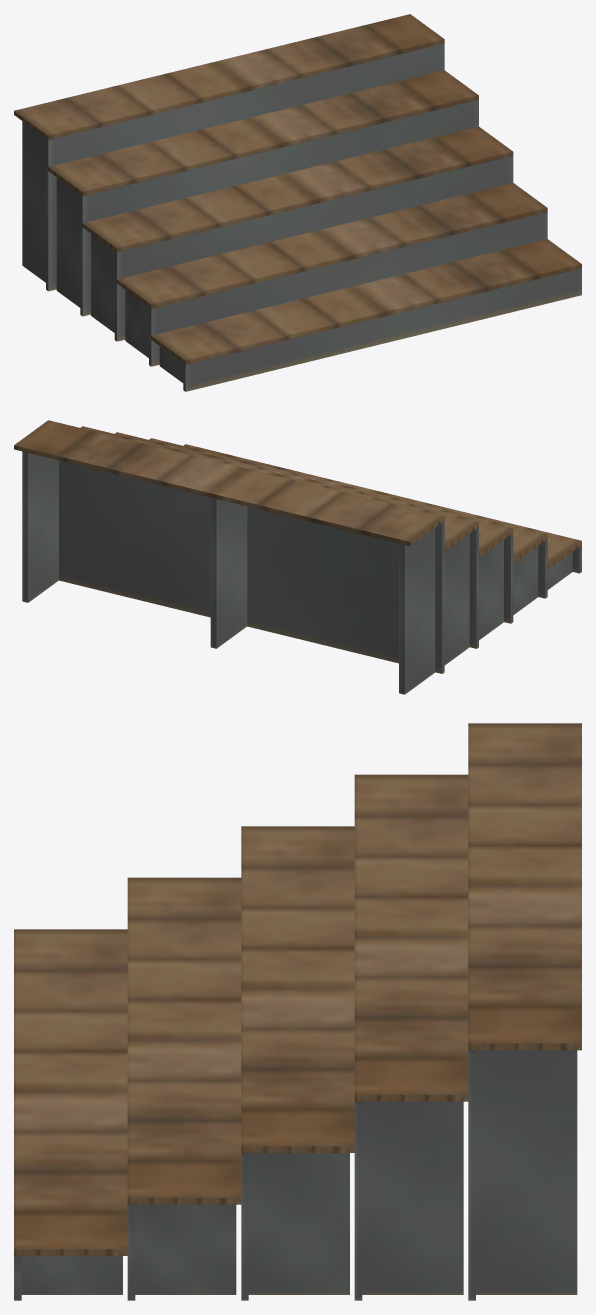
The model's file is bleachers.obj.
The picture shows the model from 3 angles, top to bottom: view 1: azimuth 30°, elevation 25°; view 2: azimuth 150°, elevation 25°; view 3: azimuth 270°, elevation 25°; orthographic projection. The views are drawn at different scales.
Parts seen in each view (by area): view 1: bleachers_5, bleachers_4, bleachers_3, bleachers_2, bleachers; view 2: bleachers_5, bleachers_4, bleachers_3, bleachers_2, bleachers; view 3: bleachers_5, bleachers_4, bleachers_3, bleachers_2, bleachers.
Boxes of the visible parts, left/top/right/bottom form: bleachers_5: left=14, top=14, right=444, bottom=291; bleachers_4: left=48, top=70, right=478, bottom=316; bleachers_3: left=82, top=126, right=513, bottom=341; bleachers_2: left=117, top=183, right=547, bottom=366; bleachers: left=151, top=239, right=581, bottom=391; bleachers_5: left=14, top=420, right=444, bottom=694; bleachers_4: left=80, top=426, right=478, bottom=665; bleachers_3: left=115, top=432, right=513, bottom=640; bleachers_2: left=149, top=438, right=547, bottom=614; bleachers: left=183, top=444, right=581, bottom=589; bleachers_5: left=468, top=723, right=581, bottom=1300; bleachers_4: left=354, top=774, right=468, bottom=1300; bleachers_3: left=241, top=826, right=354, bottom=1300; bleachers_2: left=127, top=877, right=241, bottom=1300; bleachers: left=14, top=929, right=127, bottom=1300.
Size of the model in its own units: 4 by 1.5 by 3.
Materials: 1 (1 with a texture image).
